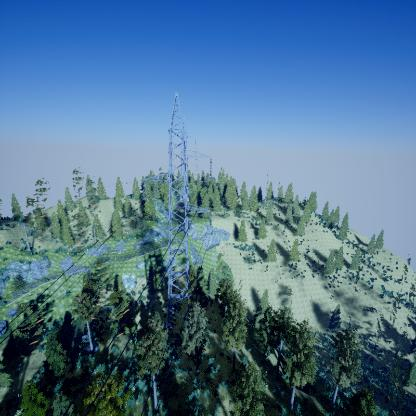tower: (164, 91, 193, 333)
